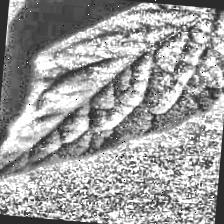leaf mold: (0, 0, 224, 199)
